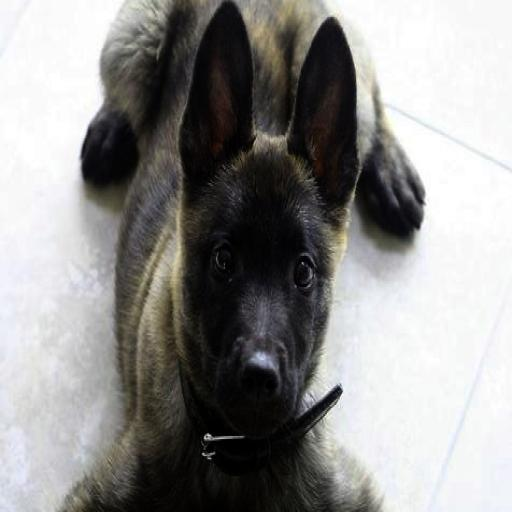dog_face: (169, 9, 354, 421)
